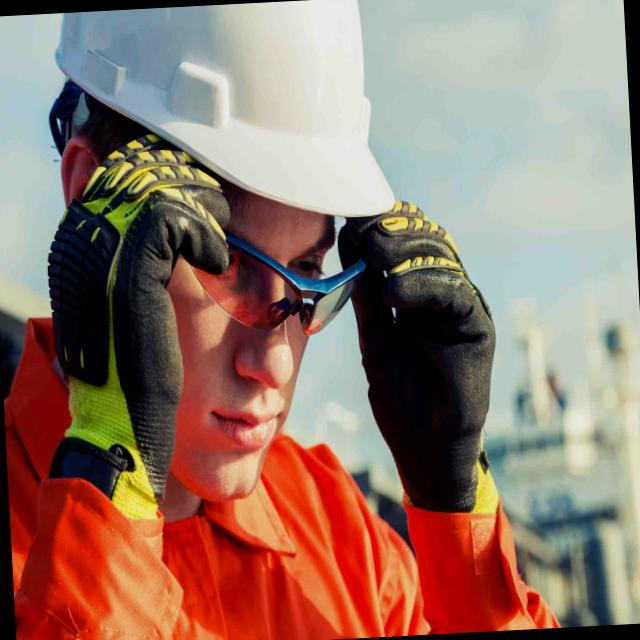goggles: (187, 234, 382, 339)
helmet: (55, 0, 409, 239)
vest: (73, 431, 349, 640)
